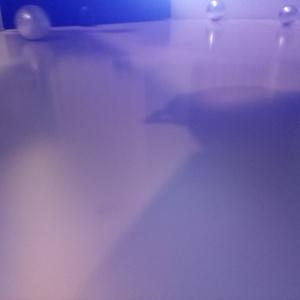alive_ball: (15, 6, 50, 40), (206, 1, 226, 21), (279, 5, 297, 25)
dead_ball: (76, 5, 96, 26)
